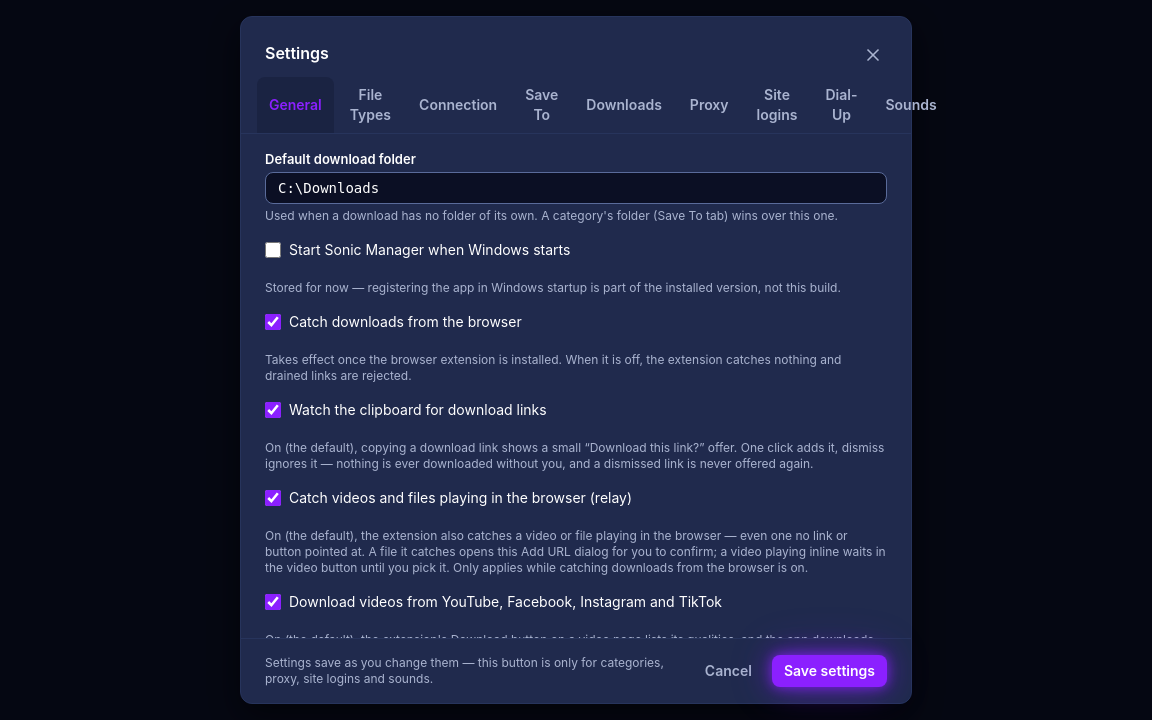
Scenario: immediate settings writes (Round 87.5) › flipping the clipboard toggle writes at once, with no Save click
What coordinates should you click on to do the following:
click the checkbox labelled "Watch the clipboard for download links"
I would click on:
 (273, 410)
Its box is [265,402,281,418].
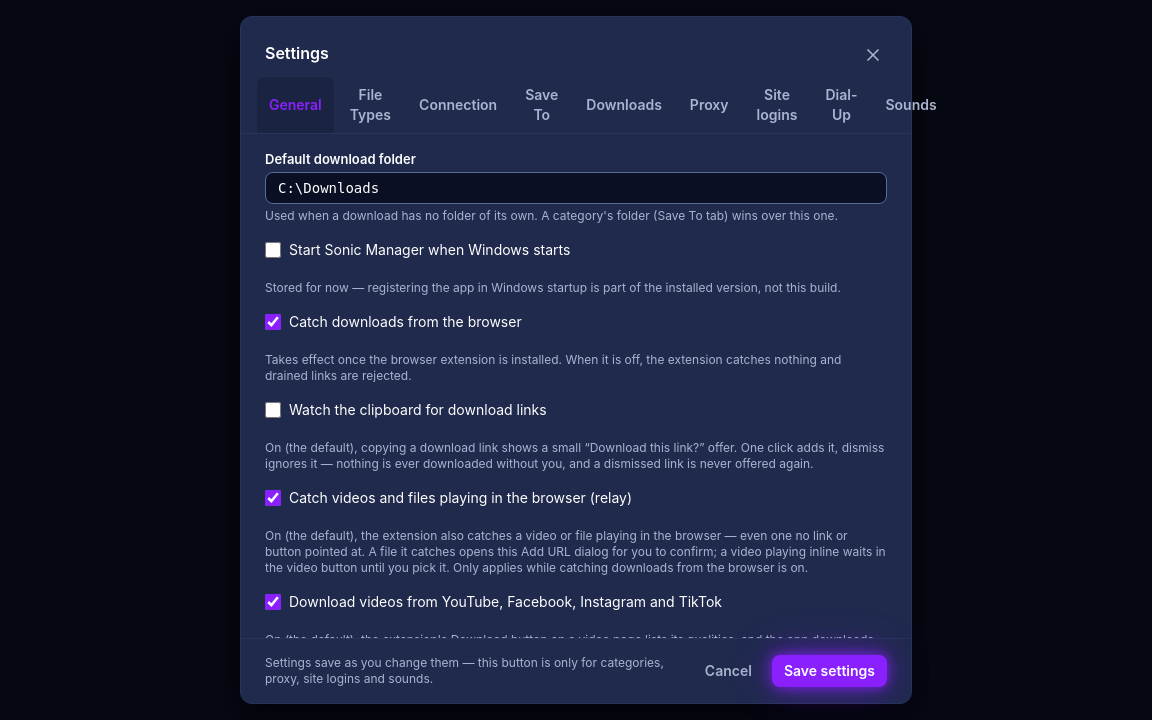
Now the checkbox labelled "Watch the clipboard for download links" is not checked, box [265,402,281,418]
